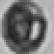correct: (2, 0, 49, 52)
